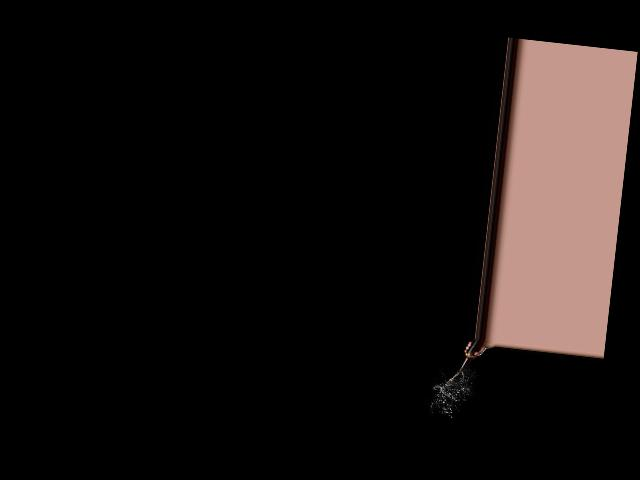beer: (459, 337, 486, 374)
